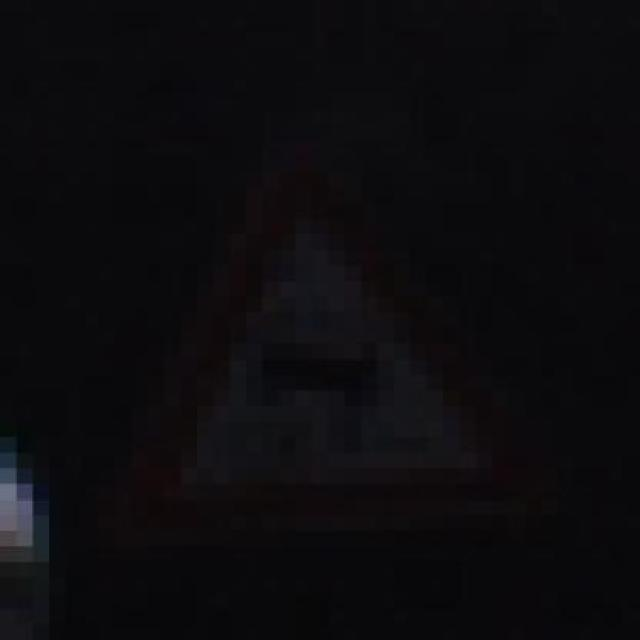Slippery Road Ahead: (132, 124, 526, 562)
